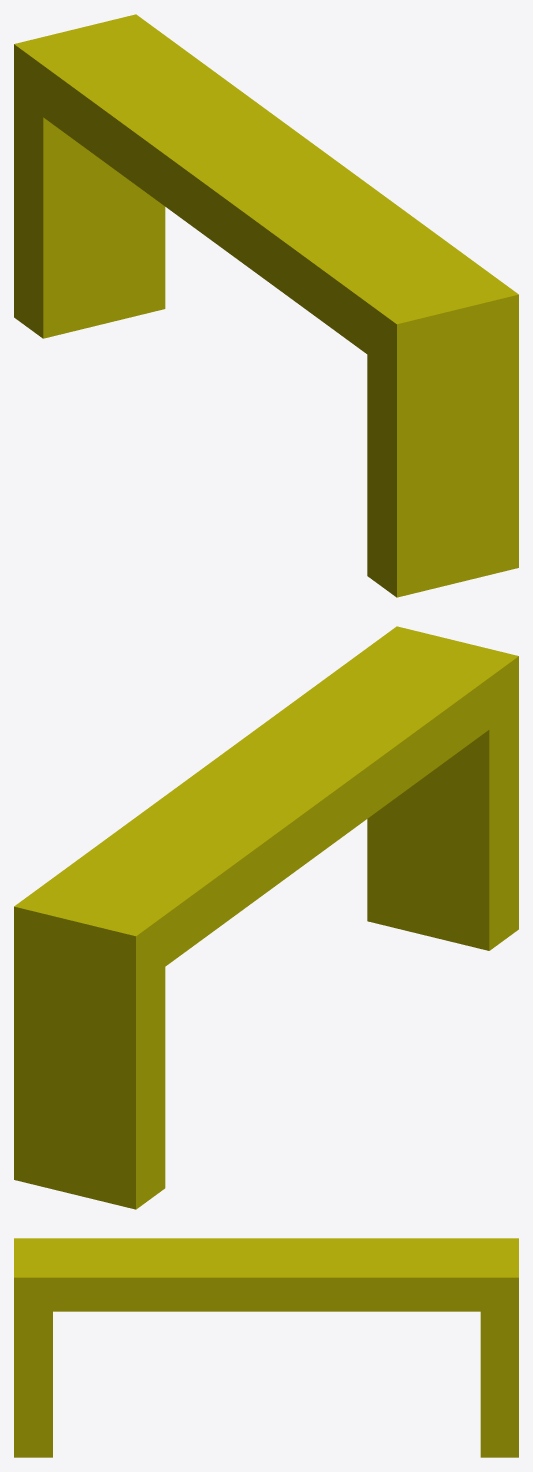
Rendered from H_Table.fbx.
3 views of the same model, one above another, from view 1: azimuth 30°, elevation 25°; view 2: azimuth 150°, elevation 25°; view 3: azimuth 270°, elevation 25° (orthographic). The views are drawn at different scales.
Visible parts, largest first — view 1: H_table; view 2: H_table; view 3: H_table.
Boxes of the visible parts, x1,y1,x2,y2 form: H_table: [14, 14, 518, 597]; H_table: [14, 626, 518, 1209]; H_table: [14, 1238, 518, 1457].
Size of the model in its own units: 38.14 by 81.56 by 207.
